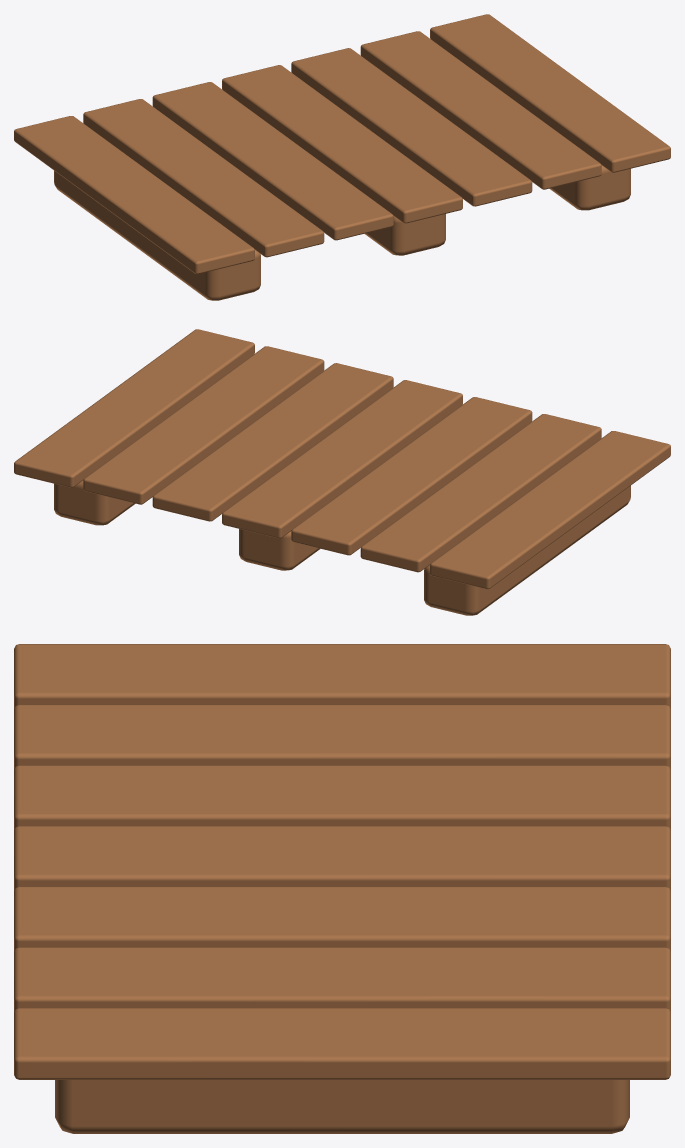
The model's file is wp-palette-logistique.glb.
3 renders of one model, top to bottom at view 1: azimuth 30°, elevation 25°; view 2: azimuth 150°, elevation 25°; view 3: azimuth 270°, elevation 25°, orthographic. The views are drawn at different scales.
Parts seen in each view (by area): view 1: wp-palette-logistique; view 2: wp-palette-logistique; view 3: wp-palette-logistique.
Boxes of the visible parts, x1,y1,x2,y2 form: wp-palette-logistique: [14, 14, 670, 300]; wp-palette-logistique: [14, 329, 670, 615]; wp-palette-logistique: [14, 644, 670, 1133].
Bounding box in the file's own units: 1.2 × 0.14 × 0.8.
